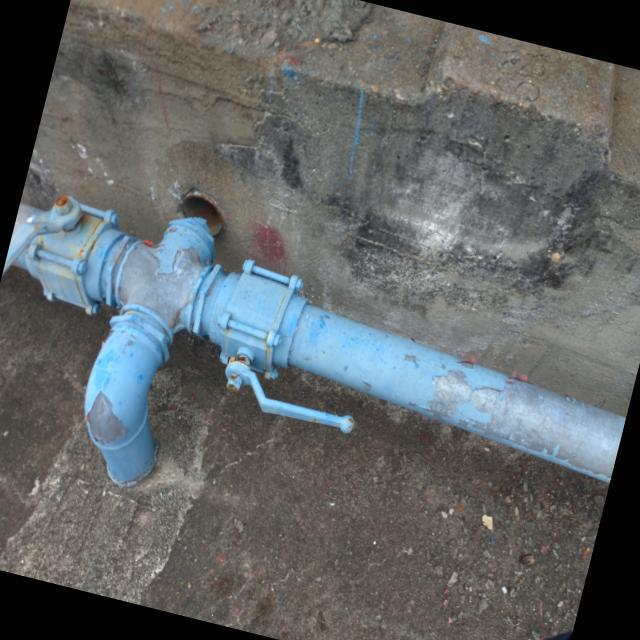gas: (5, 197, 621, 476), (80, 217, 213, 484)
